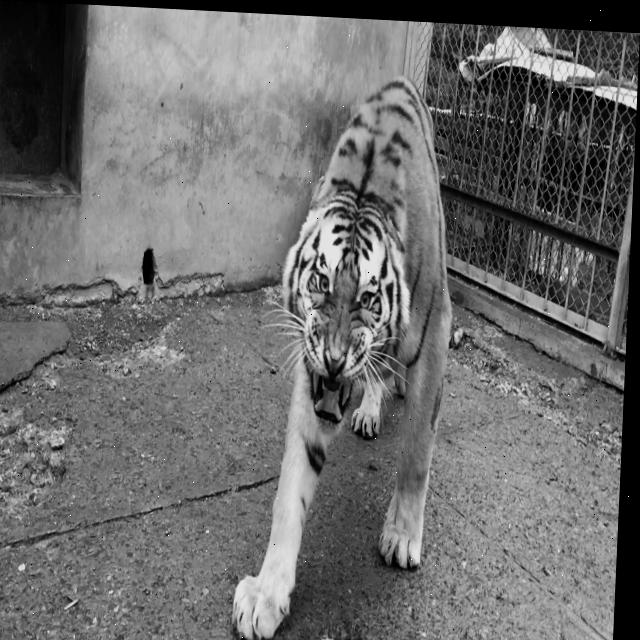Tiger: (230, 67, 464, 640)
